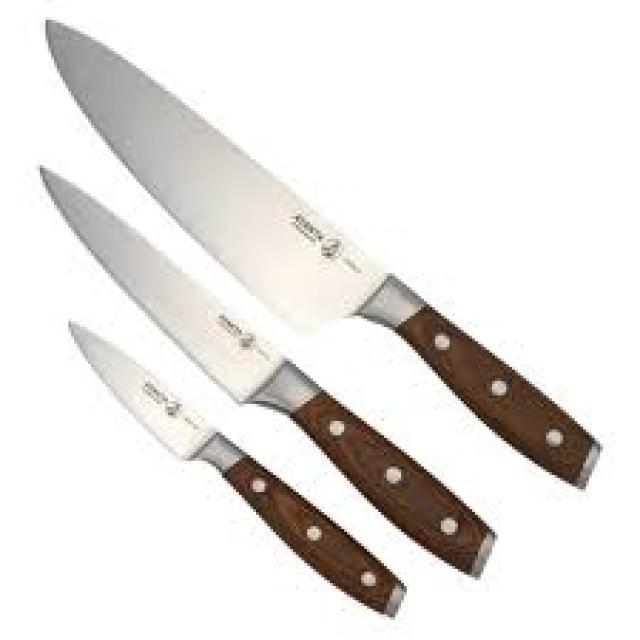Knife: (43, 17, 600, 489), (37, 162, 495, 578), (65, 316, 407, 617)
